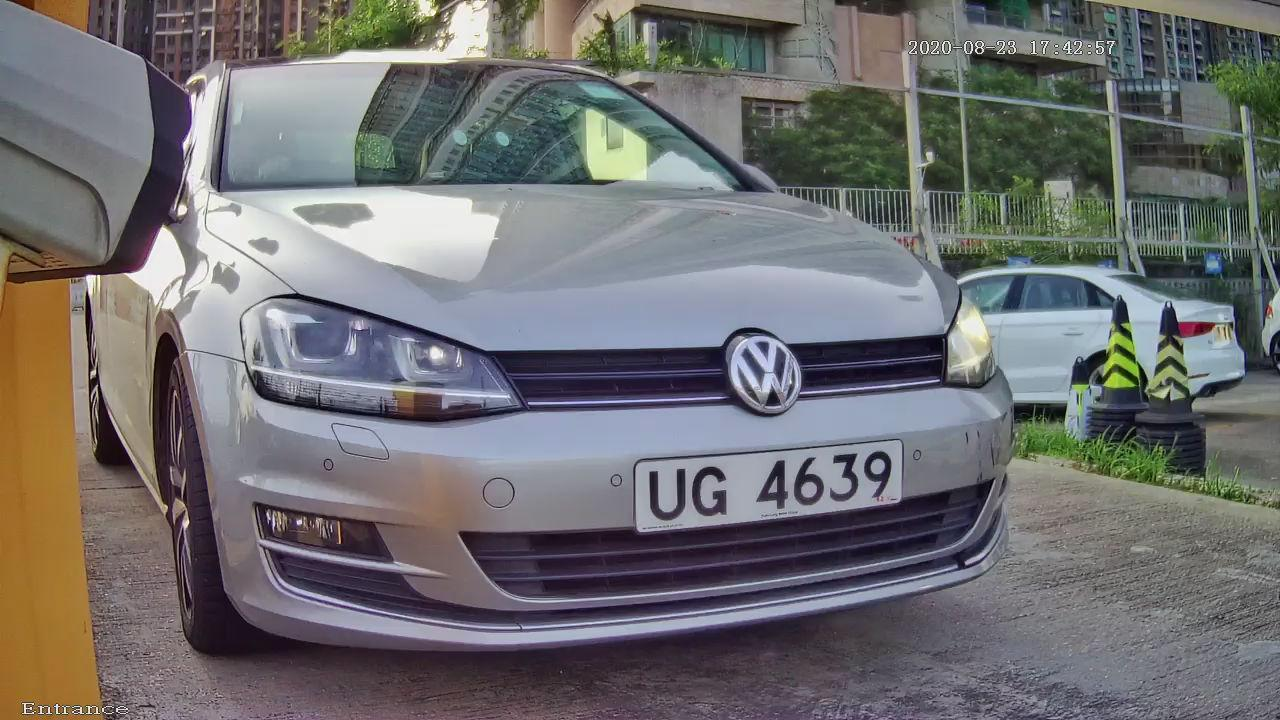Car: (41, 13, 1126, 698)
License Plate: (552, 394, 987, 584)
